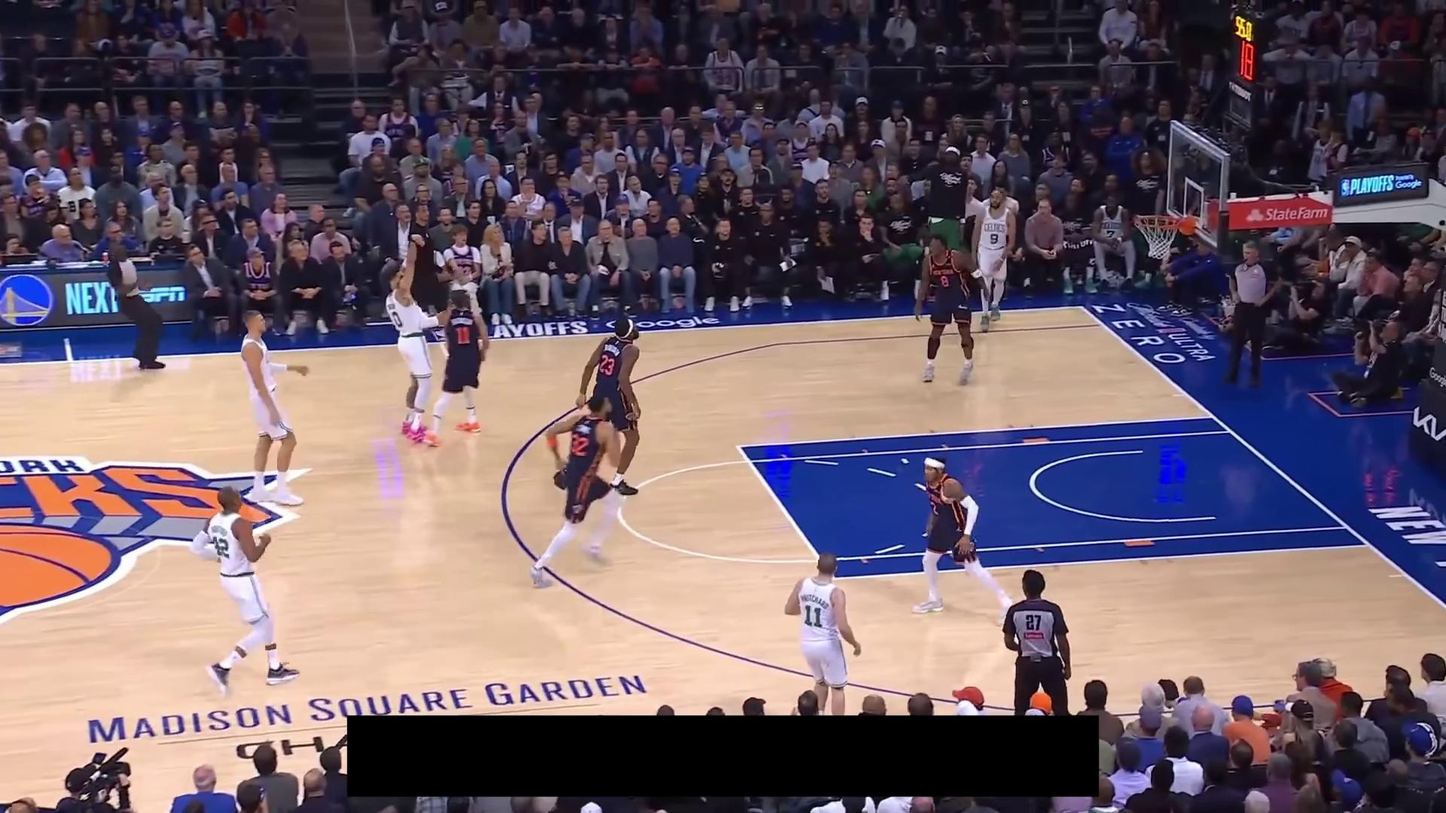ball: (715, 0, 741, 13)
number: (570, 432, 590, 456), (804, 604, 822, 628), (599, 354, 615, 376), (215, 536, 230, 559), (456, 326, 470, 346), (390, 310, 403, 328), (929, 500, 939, 516), (940, 275, 950, 288), (989, 232, 999, 245)
player: (188, 484, 301, 699), (527, 392, 625, 590), (909, 452, 1015, 630), (237, 308, 312, 508), (781, 548, 864, 717), (572, 315, 646, 498), (412, 284, 491, 447), (385, 236, 440, 446), (913, 230, 978, 387), (967, 186, 1019, 333)
referee: (1002, 569, 1072, 716), (1222, 239, 1283, 388), (104, 241, 169, 372)
rim: (1136, 215, 1181, 228)
